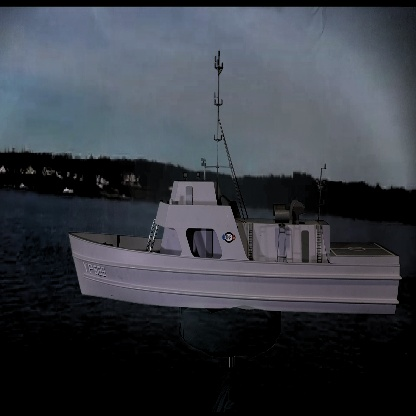YP689: (69, 47, 402, 318)
